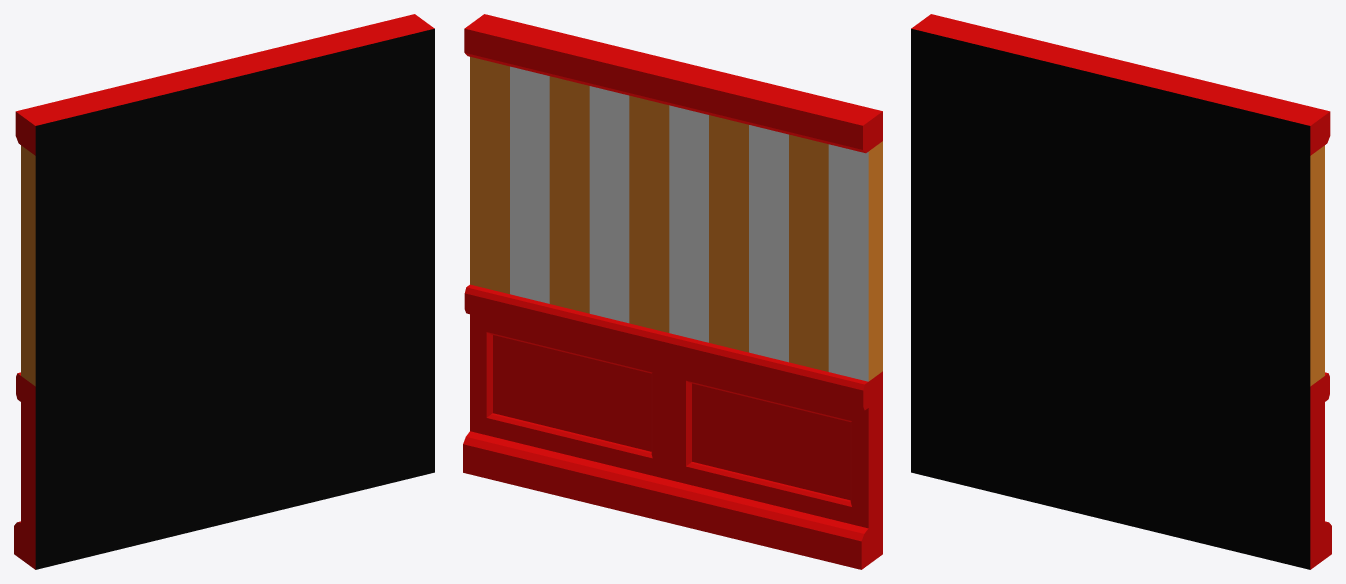
The model's file is Wall_2.fbx.
3 renders of one model, left to right at view 1: azimuth 30°, elevation 25°; view 2: azimuth 150°, elevation 25°; view 3: azimuth 330°, elevation 25°, orthographic.
Parts seen in each view (by area): view 1: Cube.005; view 2: Cube.005; view 3: Cube.005.
Part boxes in pixels (bbox=[...]): Cube.005: bbox=[14, 14, 434, 569]; Cube.005: bbox=[463, 14, 882, 569]; Cube.005: bbox=[911, 14, 1331, 569].
Bounding box in the file's own units: 4 × 0.3715 × 4.25.
